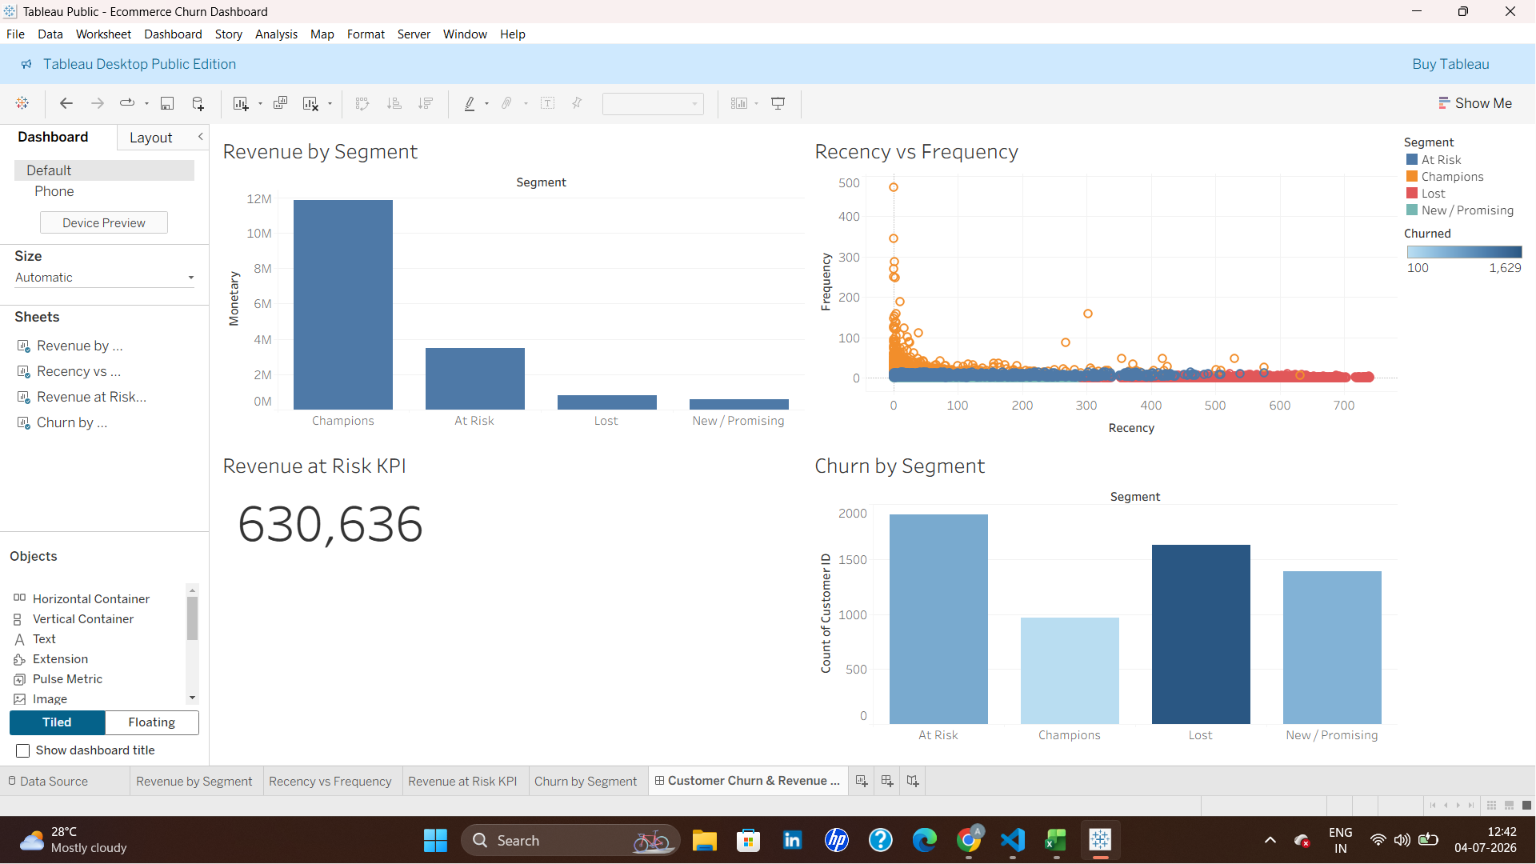

What the dashboard file says about the page in this screenshot:
{"tool":"tableau","page":{"name":"Customer Churn & Revenue Risk Dashboard","canvas":[1000,1000],"units":"permille","ordinal":0},"visuals":[{"type":"worksheet","title":"Revenue by Segment","mark":"Automatic","rows":["Monetary"],"cols":["Segment"],"box":[9.7,10.1,393.4,489.9]},{"type":"worksheet","title":"Recency vs Frequency","mark":"Automatic","rows":["Frequency"],"cols":["Recency"],"box":[403.1,10.1,393.5,489.9]},{"type":"legend","title":"Recency vs Frequency","param":"[federated.1l988en0c592it1guj6n50hgshjq].[none:Segment:nk]","box":[796.6,10.1,193.7,144.1]},{"type":"legend","title":"Churn by Segment","param":"[federated.1l988en0c592it1guj6n50hgshjq].[sum:Churned:qk]","box":[796.6,154.2,193.7,92.3]},{"type":"worksheet","title":"Revenue at Risk KPI","mark":"Automatic","box":[9.7,500,393.4,489.9]},{"type":"worksheet","title":"Churn by Segment","mark":"Automatic","rows":["CustomerID"],"cols":["Segment"],"box":[403.1,500,393.5,489.9]}]}

Visuals, with their boxes on the dashboard's canvas, which has no fixed pixel size, in thousandths of its width and height (x1, y1, x2, y2). These are canvas units, not pixel positions in the 1536x864 screenshot, which may show the page scaled, cropped or inside an application window:
"Revenue by Segment" worksheet: (left=10, top=10, right=403, bottom=500)
"Recency vs Frequency" worksheet: (left=403, top=10, right=797, bottom=500)
"Recency vs Frequency" legend: (left=797, top=10, right=990, bottom=154)
"Churn by Segment" legend: (left=797, top=154, right=990, bottom=246)
"Revenue at Risk KPI" worksheet: (left=10, top=500, right=403, bottom=990)
"Churn by Segment" worksheet: (left=403, top=500, right=797, bottom=990)
